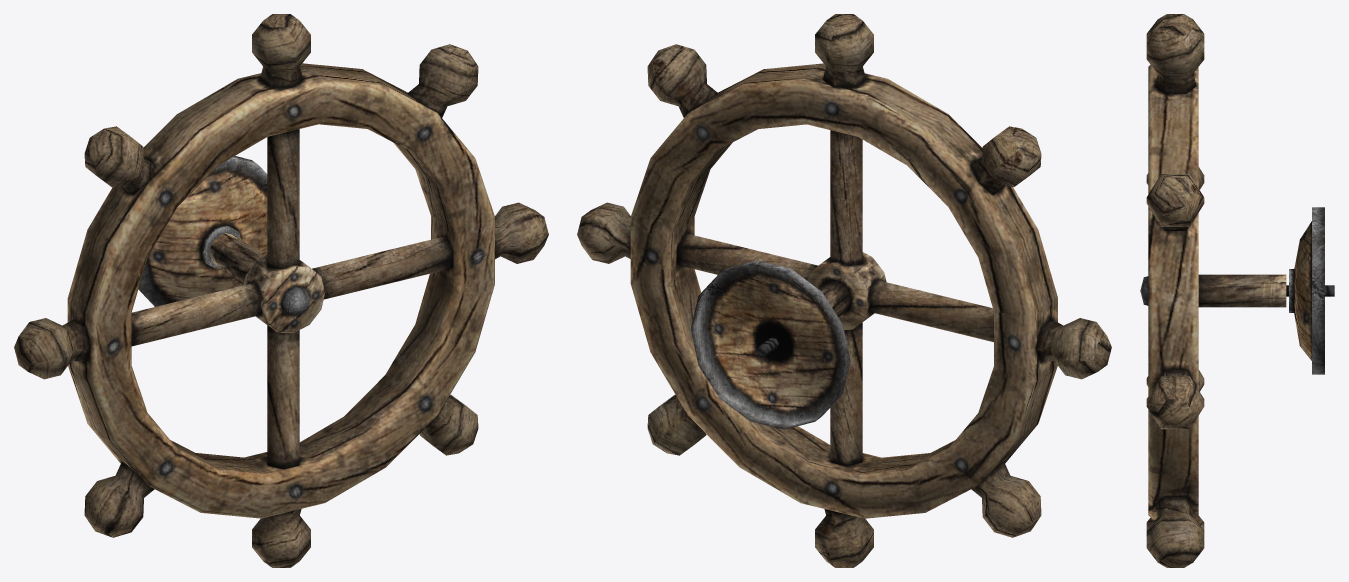
File: valve_wood.dae
3 views of the same model, side by side, from view 1: azimuth 30°, elevation 25°; view 2: azimuth 150°, elevation 25°; view 3: azimuth 270°, elevation 25° (orthographic). The views are drawn at different scales.
Visible parts, largest first — view 1: valve_wood_valve, valve_wood_base; view 2: valve_wood_valve, valve_wood_base; view 3: valve_wood_valve, valve_wood_base.
Boxes of the visible parts, x1,y1,x2,y2 form: valve_wood_valve: [14, 14, 548, 567]; valve_wood_base: [138, 156, 267, 306]; valve_wood_valve: [577, 14, 1111, 567]; valve_wood_base: [690, 260, 850, 429]; valve_wood_valve: [1140, 14, 1334, 567]; valve_wood_base: [1289, 207, 1324, 374].
Bounding box in the file's own units: 0.7089 × 0.7089 × 0.2338.
